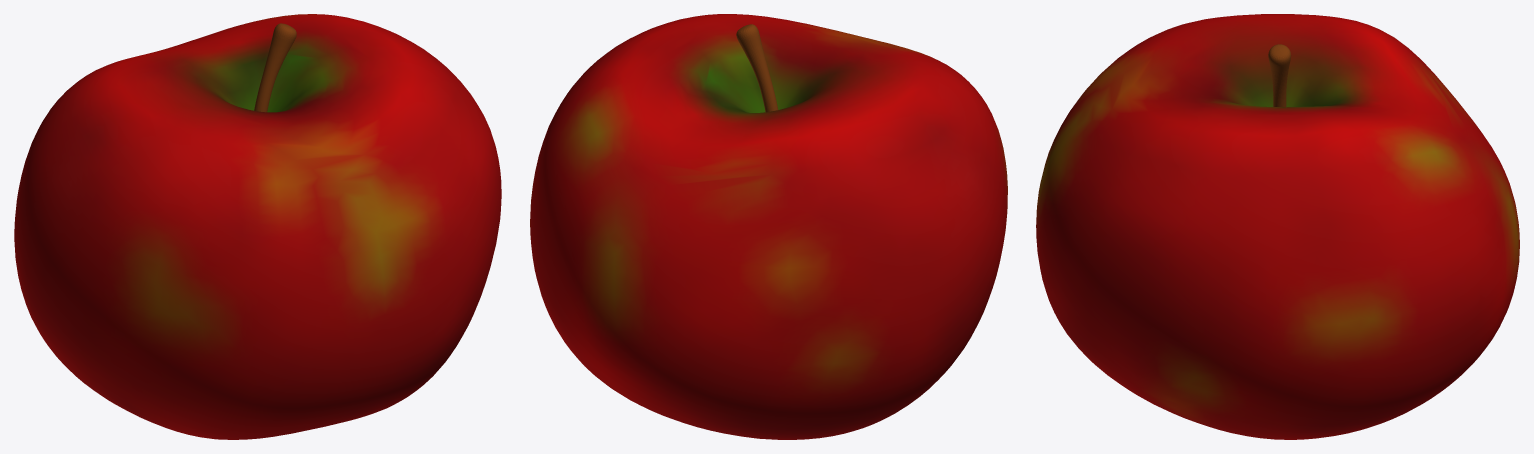
The model's file is apple.glb.
3 renders of one model, left to right at view 1: azimuth 30°, elevation 25°; view 2: azimuth 150°, elevation 25°; view 3: azimuth 270°, elevation 25°, orthographic.
Parts seen in each view (by area): view 1: 球, 円柱; view 2: 球, 円柱; view 3: 球, 円柱.
Boxes of the visible parts, bbox=[...] form: 球: bbox=[14, 14, 501, 439]; 円柱: bbox=[254, 23, 296, 112]; 球: bbox=[530, 14, 1007, 439]; 円柱: bbox=[736, 24, 778, 112]; 球: bbox=[1036, 14, 1519, 439]; 円柱: bbox=[1268, 44, 1291, 107].
Size of the model in its own units: 1.96 by 1.62 by 1.96.
